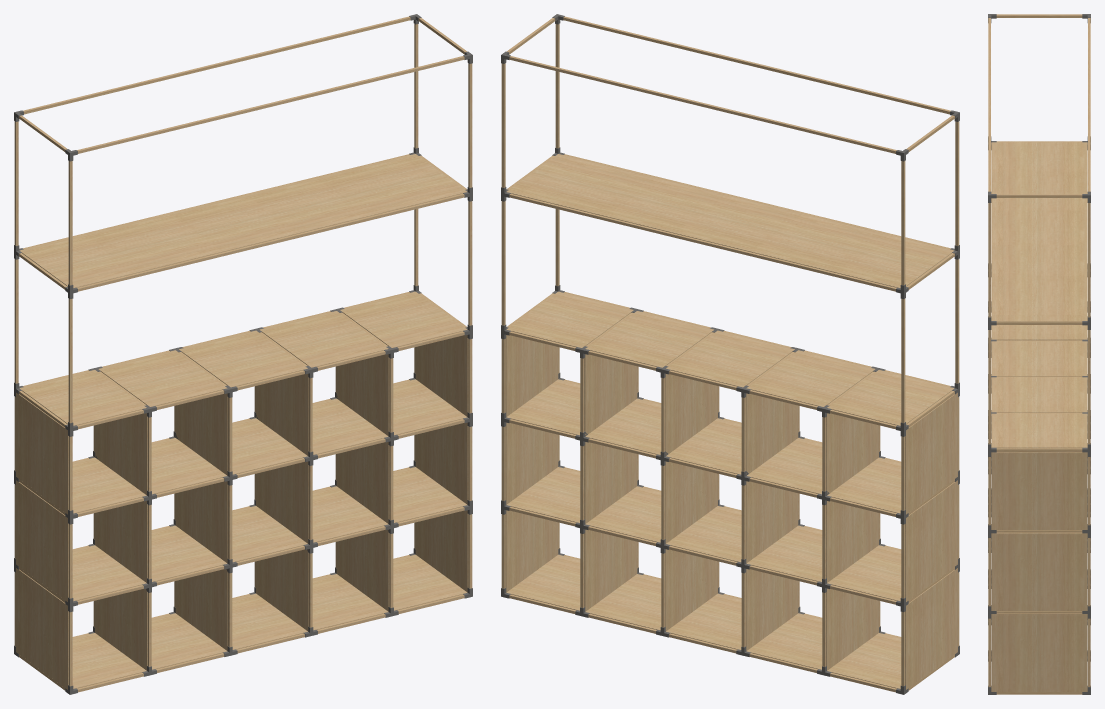
Rendered from Fitness Right Place.obj.
3 views of the same model, side by side, from view 1: azimuth 30°, elevation 25°; view 2: azimuth 150°, elevation 25°; view 3: azimuth 270°, elevation 25° (orthographic). The views are drawn at different scales.
Visible parts, largest first — view 1: Mesh57 Group58 Group1 Model, Mesh99 Group100 Group1 Model, Mesh103 Group104 Group1 Model, Mesh93 Group94 Group1 Model, Mesh72 Group73 Group1 Model, Mesh15 Group16 Group1 Model, Mesh68 Group69 Group1 Model, Mesh73 Group74 Group1 Model, Mesh74 Group75 Group1 Model, Mesh94 Group95 Group1 Model, Mesh80 Group81 Group1 Model, Mesh90 Group91 Group1 Model (+43 smaller); view 2: Mesh57 Group58 Group1 Model, Mesh99 Group100 Group1 Model, Mesh103 Group104 Group1 Model, Mesh93 Group94 Group1 Model, Mesh72 Group73 Group1 Model, Mesh15 Group16 Group1 Model, Mesh68 Group69 Group1 Model, Mesh73 Group74 Group1 Model, Mesh74 Group75 Group1 Model, Mesh94 Group95 Group1 Model, Mesh80 Group81 Group1 Model, Mesh90 Group91 Group1 Model (+43 smaller); view 3: Mesh57 Group58 Group1 Model, Mesh90 Group91 Group1 Model, Mesh94 Group95 Group1 Model, Mesh80 Group81 Group1 Model, Mesh68 Group69 Group1 Model, Mesh15 Group16 Group1 Model, Mesh73 Group74 Group1 Model, Mesh72 Group73 Group1 Model, Mesh10 Group11 Group1 Model, Mesh48 Group49 Group1 Model, Mesh76 Group77 Group1 Model, Mesh84 Group85 Group1 Model (+7 smaller).
Part boxes in pixels (box(x1,y1,x2,y2)): Mesh57 Group58 Group1 Model: box(19, 154, 467, 287); Mesh99 Group100 Group1 Model: box(16, 480, 68, 601); Mesh103 Group104 Group1 Model: box(16, 568, 68, 689); Mesh93 Group94 Group1 Model: box(16, 392, 68, 514); Mesh72 Group73 Group1 Model: box(98, 350, 227, 406); Mesh15 Group16 Group1 Model: box(179, 330, 307, 387); Mesh68 Group69 Group1 Model: box(260, 311, 388, 367); Mesh73 Group74 Group1 Model: box(340, 291, 467, 347); Mesh74 Group75 Group1 Model: box(19, 370, 146, 425); Mesh94 Group95 Group1 Model: box(415, 510, 468, 592); Mesh80 Group81 Group1 Model: box(415, 335, 468, 416); Mesh90 Group91 Group1 Model: box(415, 422, 468, 504); Mesh57 Group58 Group1 Model: box(506, 154, 954, 287); Mesh99 Group100 Group1 Model: box(905, 480, 957, 601); Mesh103 Group104 Group1 Model: box(905, 568, 957, 689); Mesh93 Group94 Group1 Model: box(905, 392, 957, 514); Mesh72 Group73 Group1 Model: box(746, 350, 875, 406); Mesh15 Group16 Group1 Model: box(666, 330, 794, 387); Mesh68 Group69 Group1 Model: box(585, 311, 713, 367); Mesh73 Group74 Group1 Model: box(506, 291, 633, 347); Mesh74 Group75 Group1 Model: box(827, 370, 954, 425); Mesh94 Group95 Group1 Model: box(505, 510, 558, 592); Mesh80 Group81 Group1 Model: box(505, 335, 558, 416); Mesh90 Group91 Group1 Model: box(505, 422, 558, 504); Mesh57 Group58 Group1 Model: box(991, 142, 1087, 321); Mesh90 Group91 Group1 Model: box(991, 532, 1087, 610); Mesh94 Group95 Group1 Model: box(991, 613, 1087, 691); Mesh80 Group81 Group1 Model: box(991, 452, 1087, 529); Mesh68 Group69 Group1 Model: box(991, 377, 1087, 412); Mesh15 Group16 Group1 Model: box(991, 341, 1087, 376); Mesh73 Group74 Group1 Model: box(991, 413, 1087, 448); Mesh72 Group73 Group1 Model: box(991, 325, 1087, 340); Mesh10 Group11 Group1 Model: box(1088, 203, 1090, 686); Mesh48 Group49 Group1 Model: box(988, 203, 990, 686); Mesh76 Group77 Group1 Model: box(1088, 18, 1090, 191); Mesh84 Group85 Group1 Model: box(988, 18, 990, 191).
Size of the model in its own units: 2500 by 3213 by 600.
